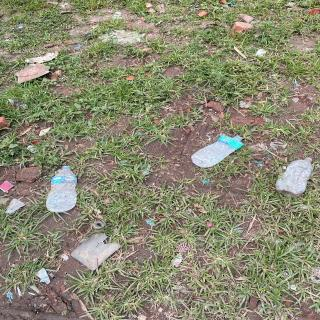Plastic-bottle: (191, 134, 247, 170), (44, 164, 81, 216)
